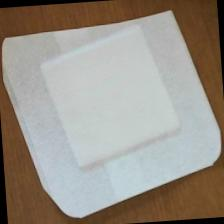Cut: (1, 4, 224, 224)
